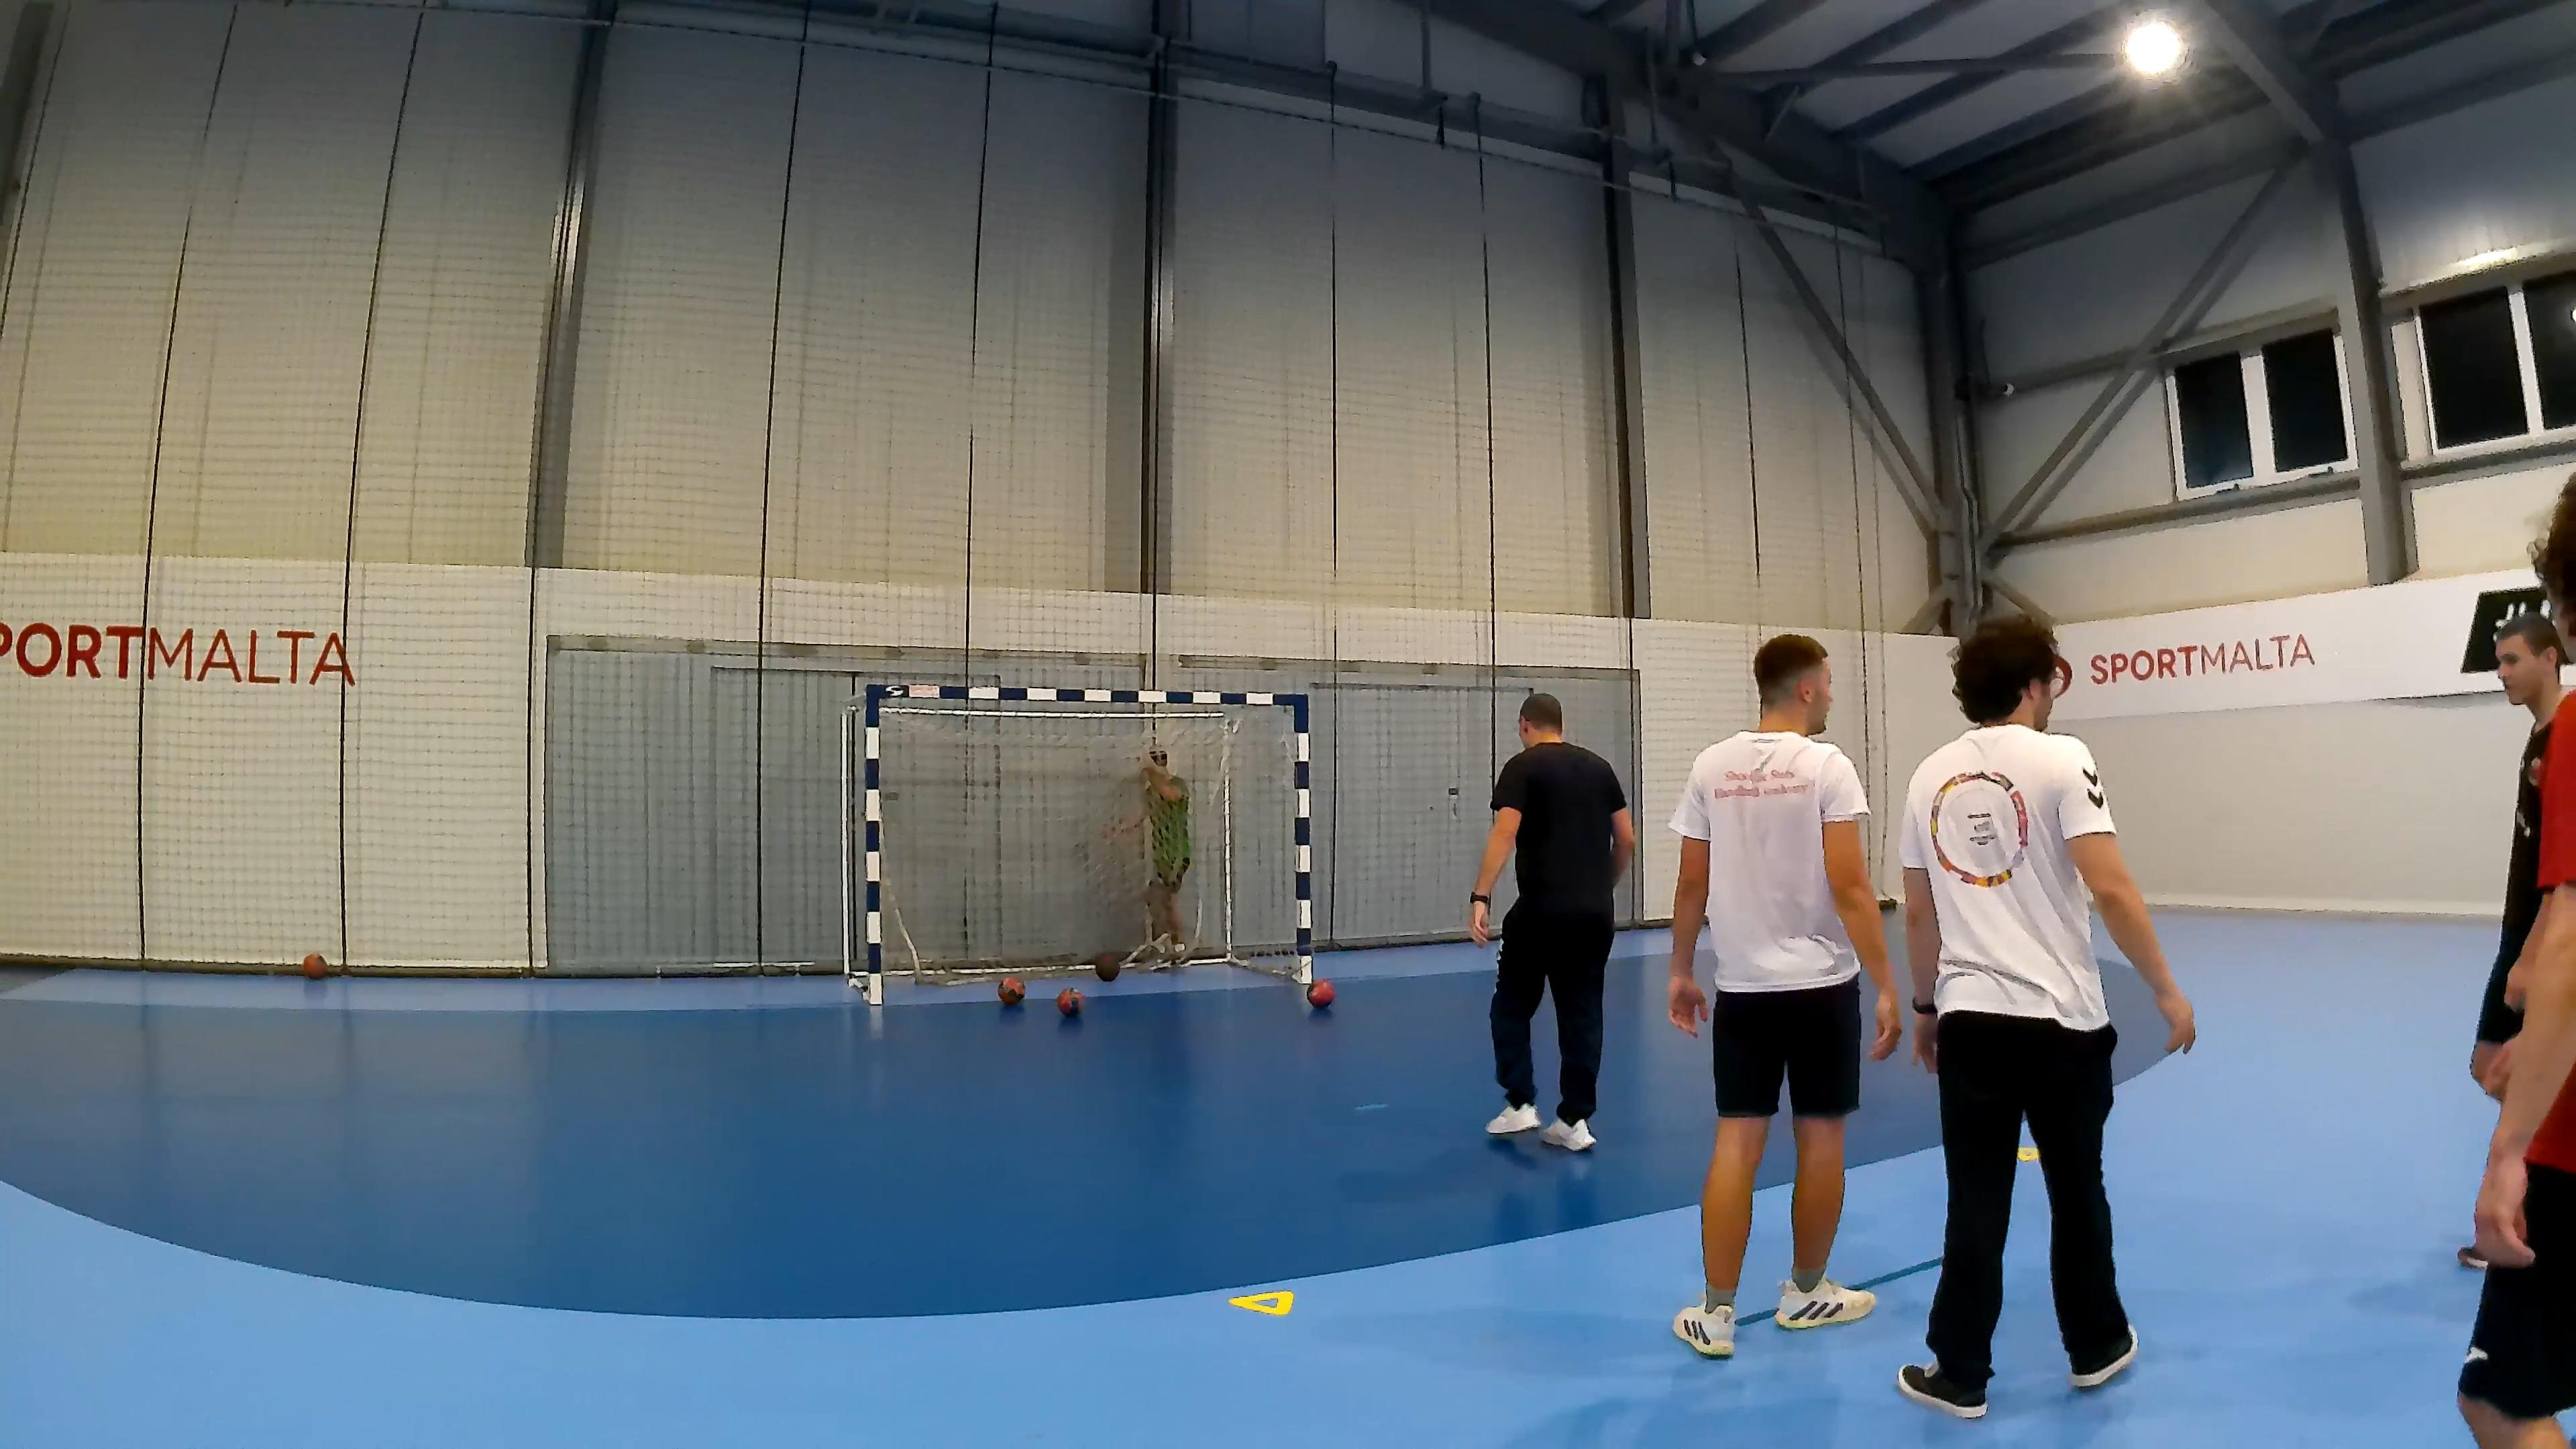handball: (996, 975, 1024, 1005), (1054, 985, 1083, 1016), (1306, 978, 1334, 1007), (1093, 950, 1118, 982), (301, 952, 326, 978)
